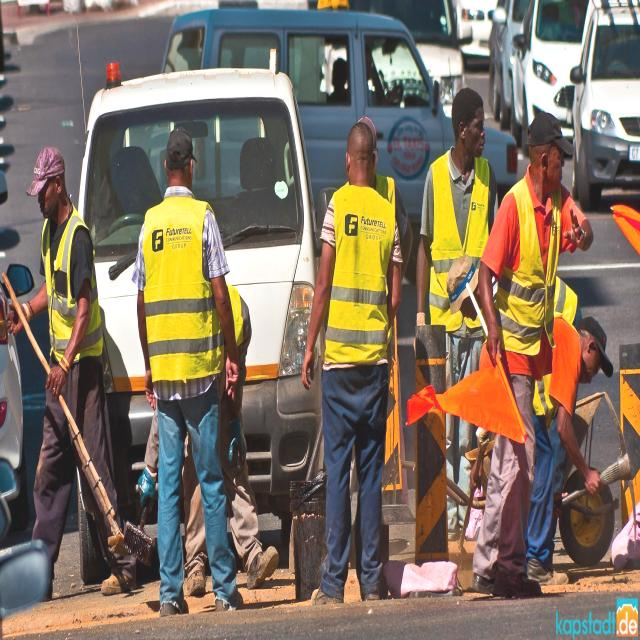face_nomask: (536, 144, 569, 194), (459, 113, 491, 157)
hand_noglove: (222, 347, 244, 403), (564, 209, 586, 256), (6, 297, 30, 338), (298, 344, 318, 391), (44, 357, 68, 396), (582, 462, 606, 501), (485, 323, 505, 365)
head_nohelmet: (343, 98, 377, 154), (441, 89, 488, 121), (582, 306, 612, 354), (28, 138, 66, 174), (162, 123, 193, 164), (529, 117, 568, 149)
person: (142, 132, 238, 608), (13, 141, 104, 564), (316, 119, 389, 600), (495, 121, 563, 588), (423, 89, 495, 351), (552, 294, 615, 566)
shoes: (488, 556, 544, 610), (522, 547, 571, 596), (208, 576, 248, 614), (305, 577, 346, 612), (155, 587, 193, 622)
vest: (142, 202, 220, 394), (327, 186, 395, 362), (428, 154, 486, 330), (505, 192, 557, 367), (39, 224, 104, 357)
